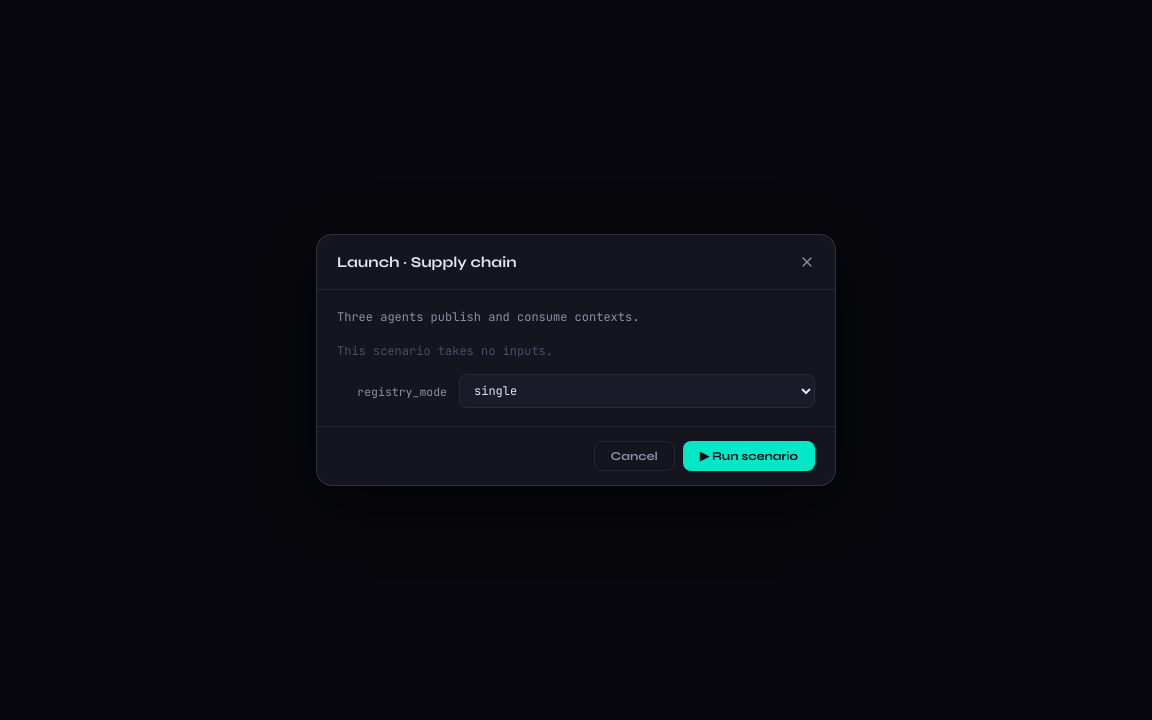
Test: the four rejection shapes › a stamped 404 says the id is unknown to THIS playground, not that it is transient
Step 1. Click the button "▶ Run scenario" → (749, 456), box [683, 441, 815, 471]
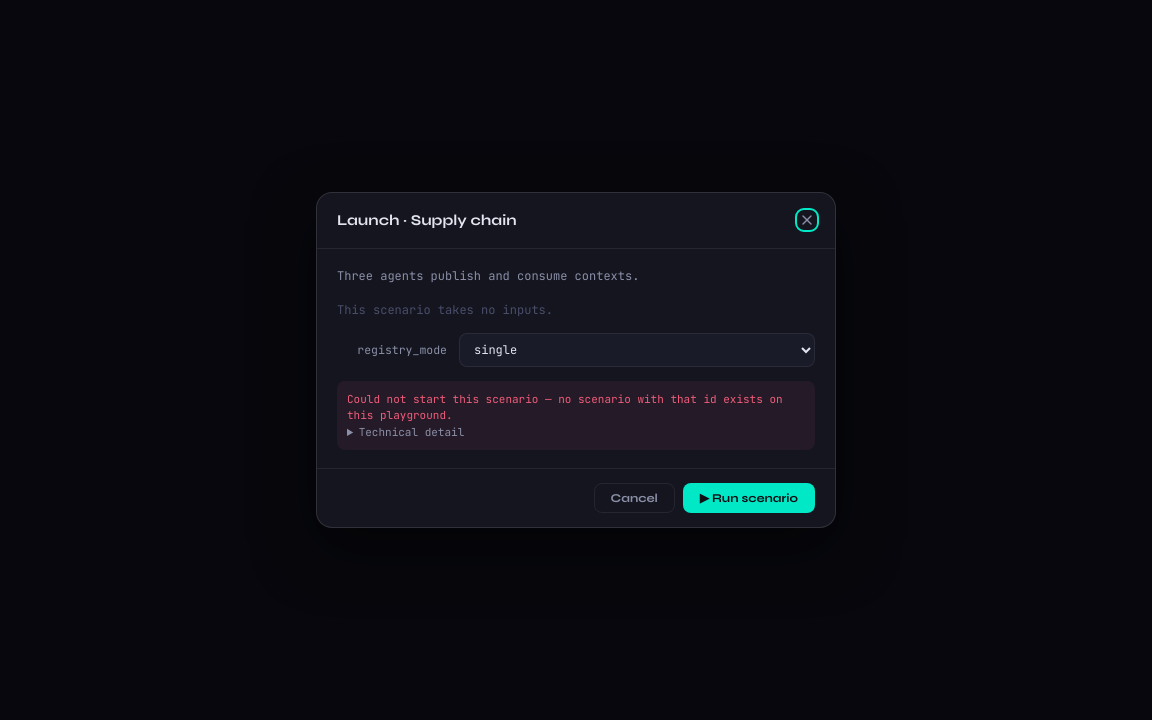
Expected: the text "Could not start this scenario" is shown, [347, 392, 783, 422]
Expected: the text "no scenario with that id exists on this playground." is shown, [347, 392, 783, 422]
